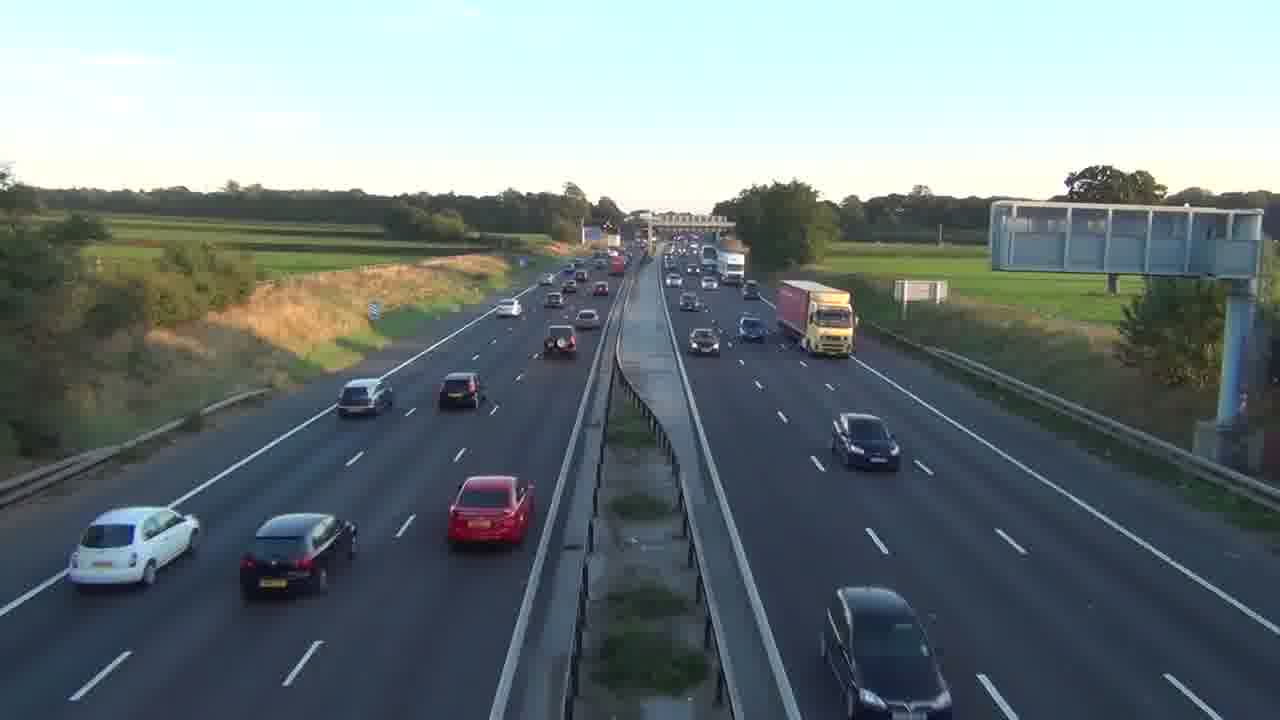car: (821, 584, 954, 718), (65, 505, 201, 589), (239, 511, 358, 601), (446, 474, 536, 549), (830, 411, 902, 471), (438, 371, 481, 410), (688, 326, 720, 356), (575, 308, 600, 329)
truck: (774, 278, 858, 358)
